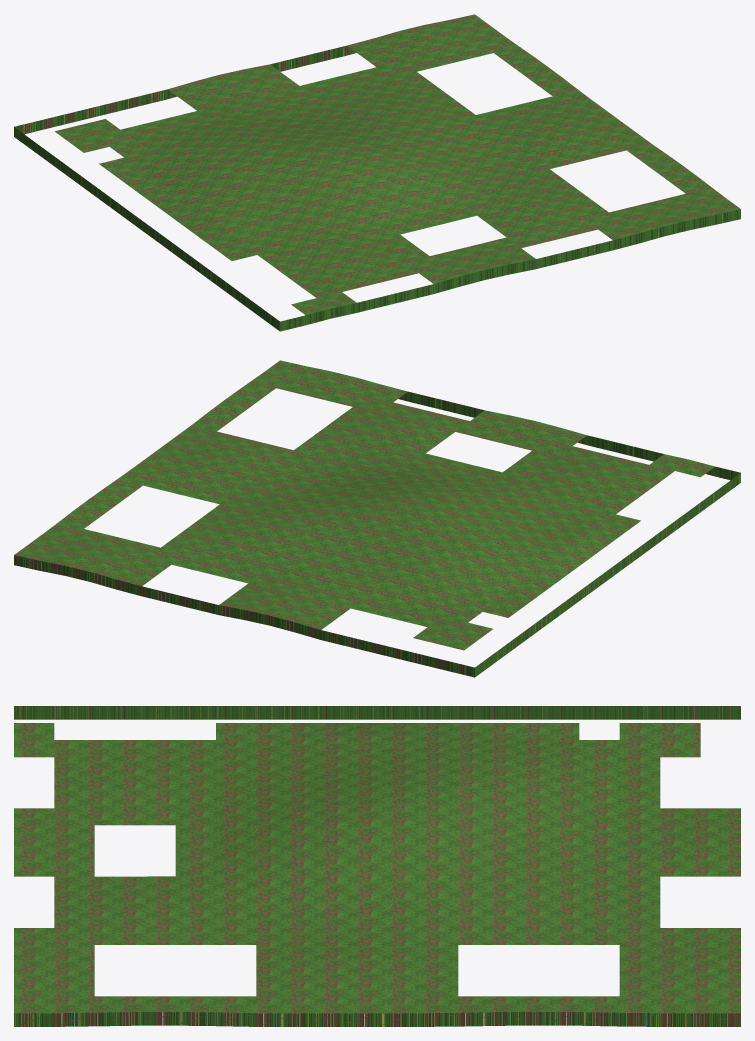
File: rv_terrain_23.gltf
3 views of the same model, one above another, from view 1: azimuth 30°, elevation 25°; view 2: azimuth 150°, elevation 25°; view 3: azimuth 270°, elevation 25° (orthographic). The views are drawn at different scales.
Visible parts, largest first — view 1: RV_Terrain_23; view 2: RV_Terrain_23; view 3: RV_Terrain_23.
Boxes of the visible parts, x1,y1,x2,y2 form: RV_Terrain_23: (14, 14, 740, 331); RV_Terrain_23: (14, 360, 740, 677); RV_Terrain_23: (14, 706, 740, 1026).
Bounding box in the file's own units: 72 × 3.99 × 72.
2 materials, 1 textured.
